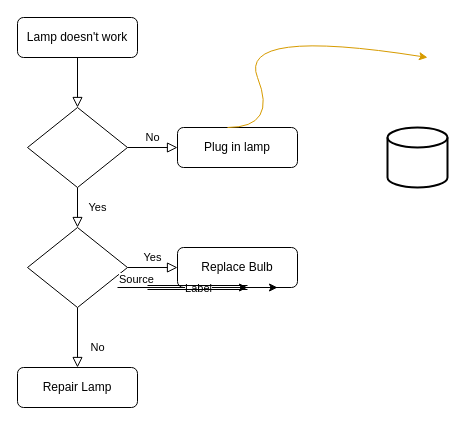
Some shapes in this 466 by 425 pixel diagram are drawn without their labels. Each missing label, with the centre of its shape:
"Bulb burned out?" goes at point (77, 267).
"Lamp plugged in?" goes at point (77, 147).
